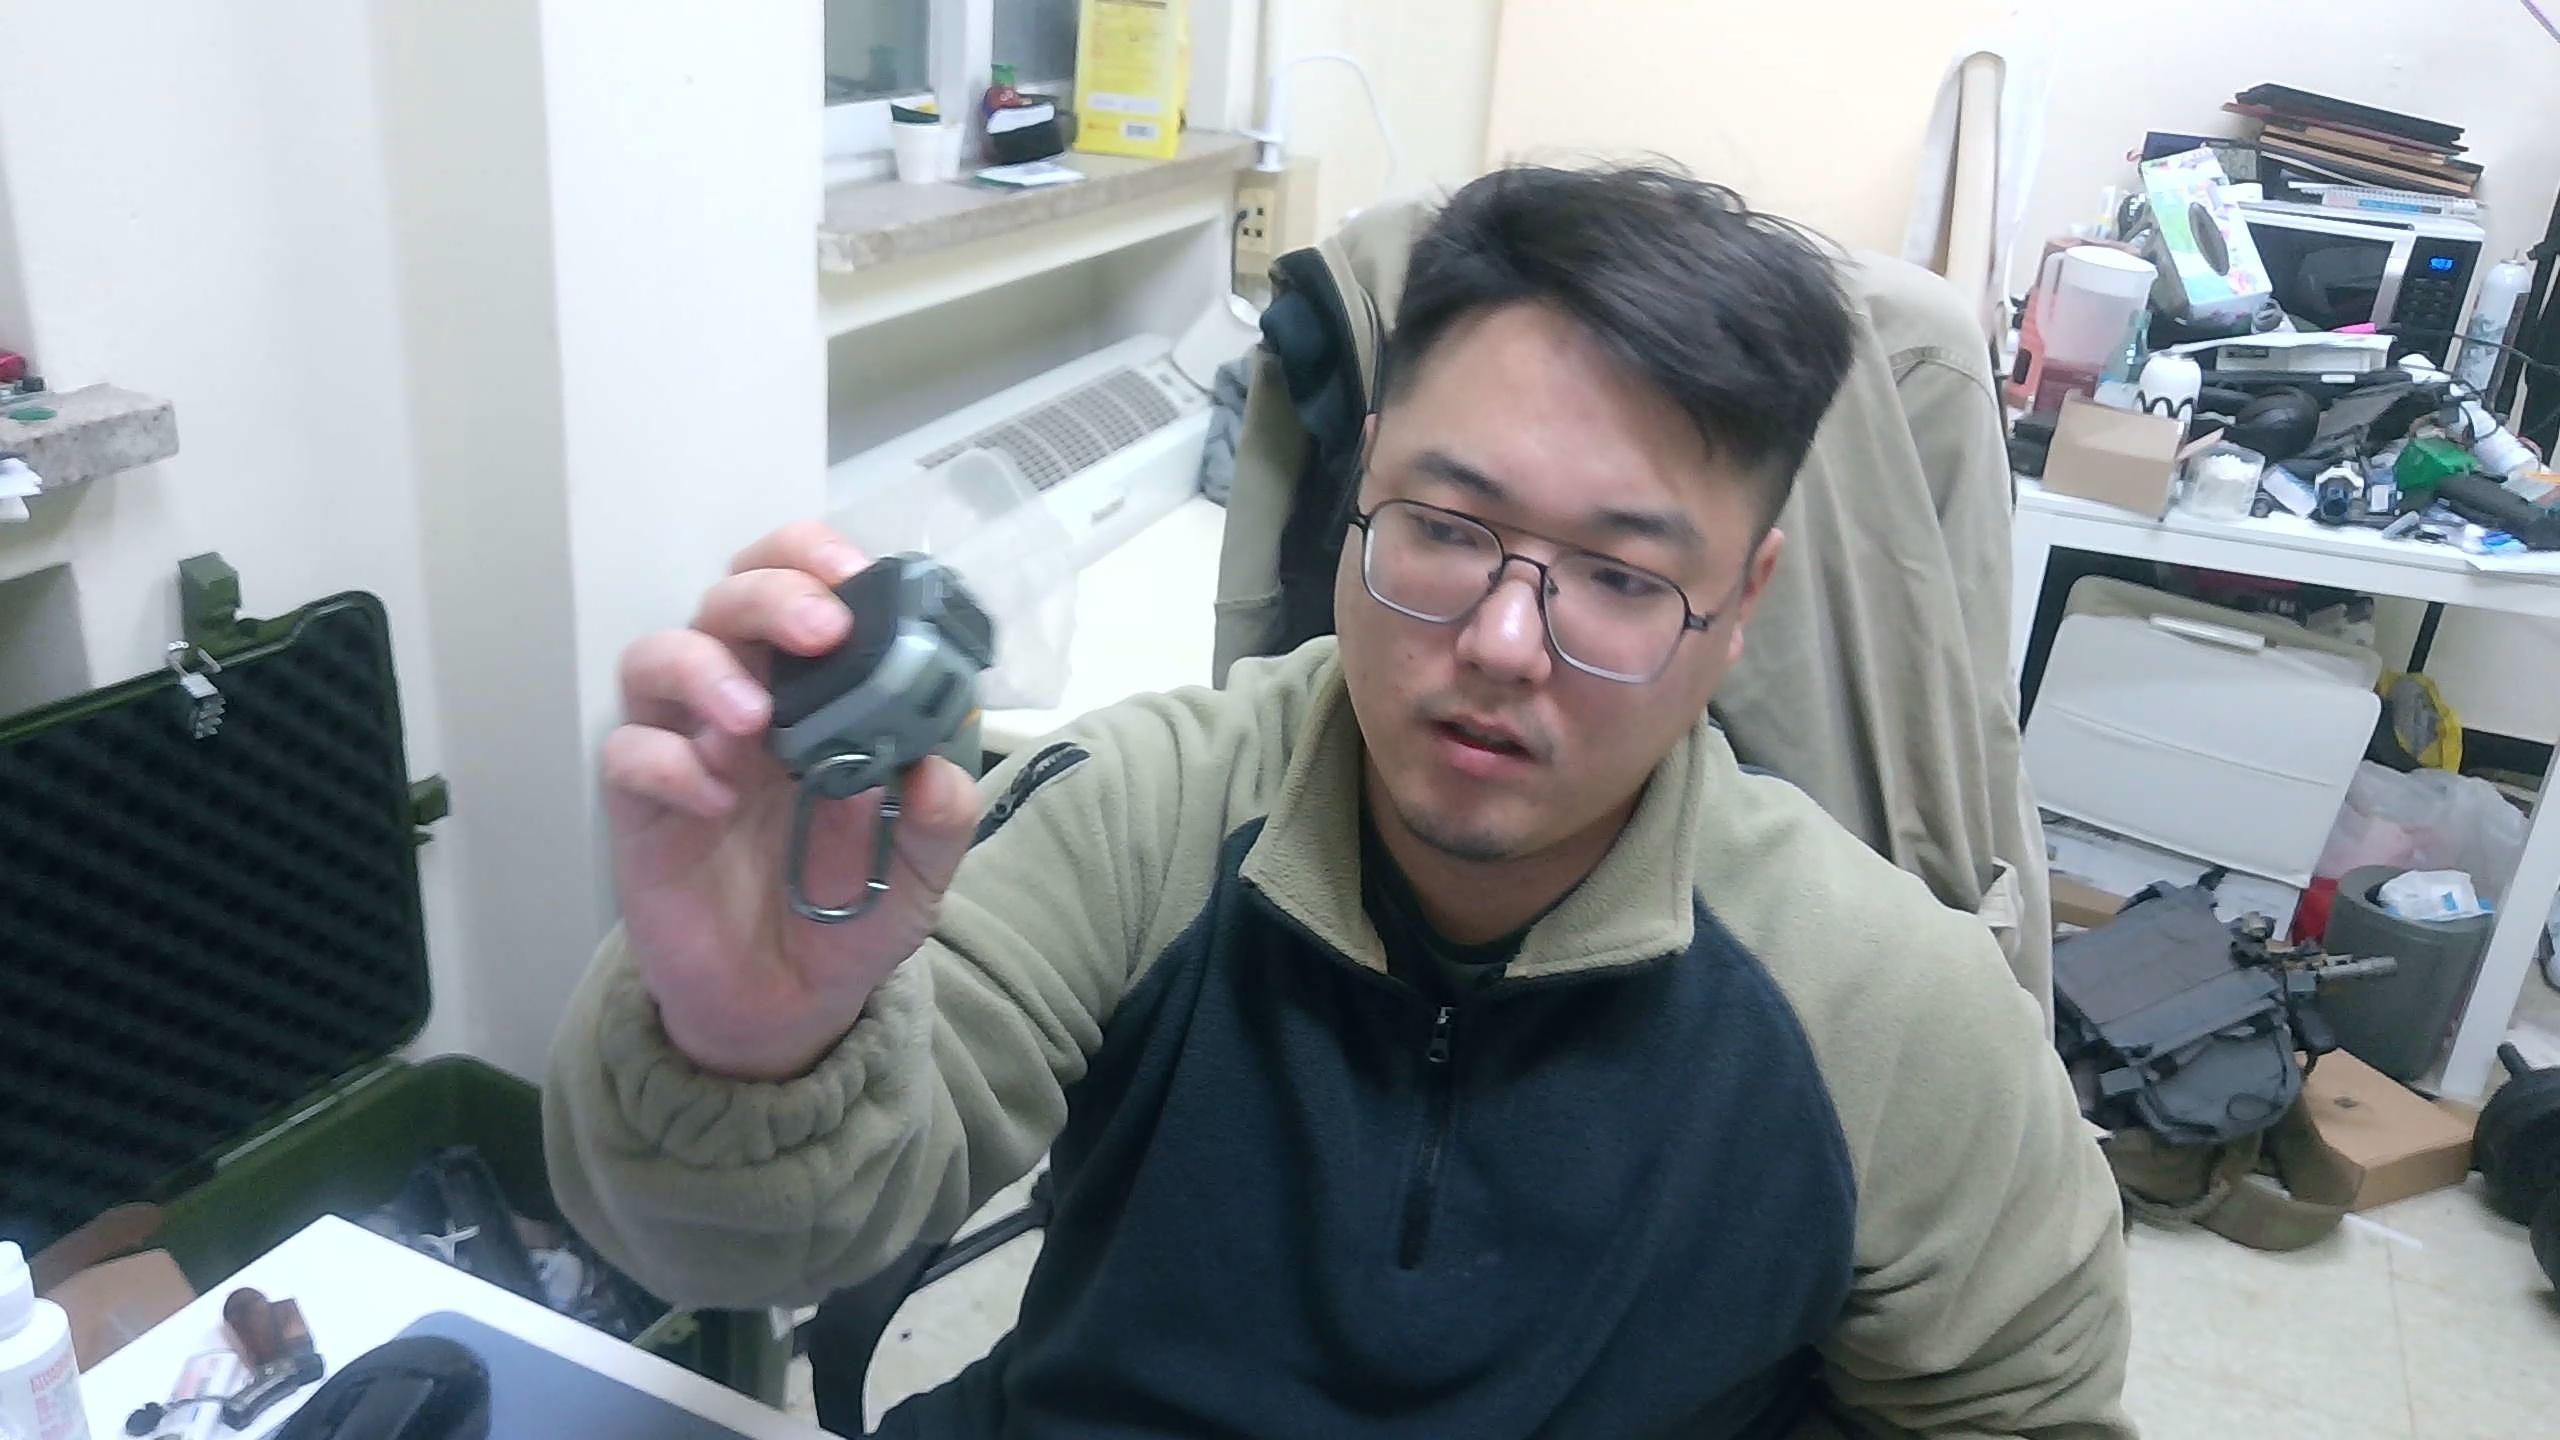blue_pliers: (760, 549, 1000, 925)
